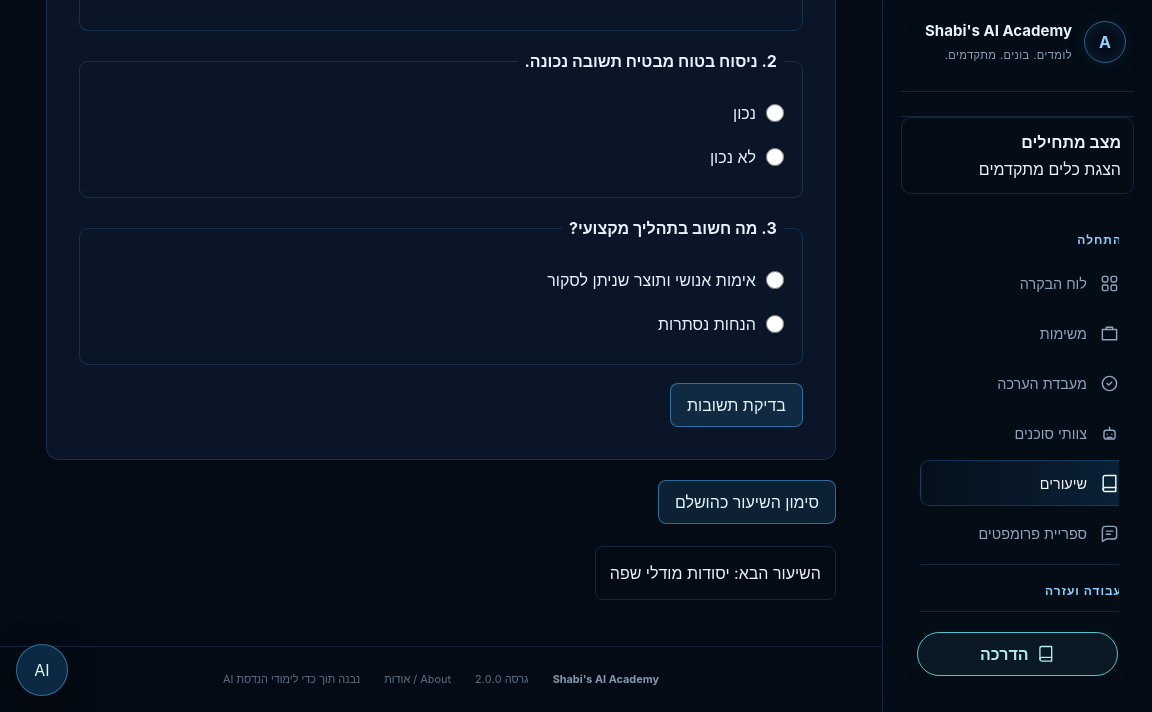
Lesson quiz and completion › requires every answer before scoring the quiz
This screenshot has width=1152, height=712.
(page scrolled)
Click the button "בדיקת תשובות" at coordinates (736, 405), box x1=670 y1=383 x2=803 y2=427
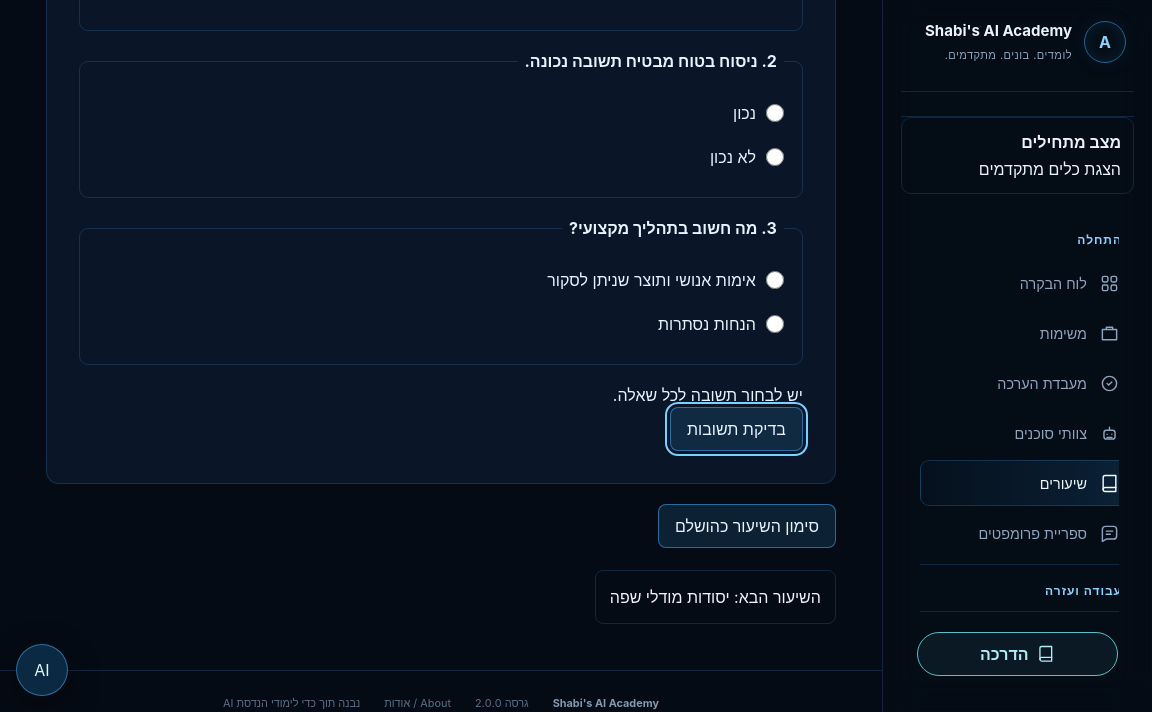
Expected: the message "יש לבחור תשובה לכל שאלה." is shown, x1=613 y1=385 x2=803 y2=405
